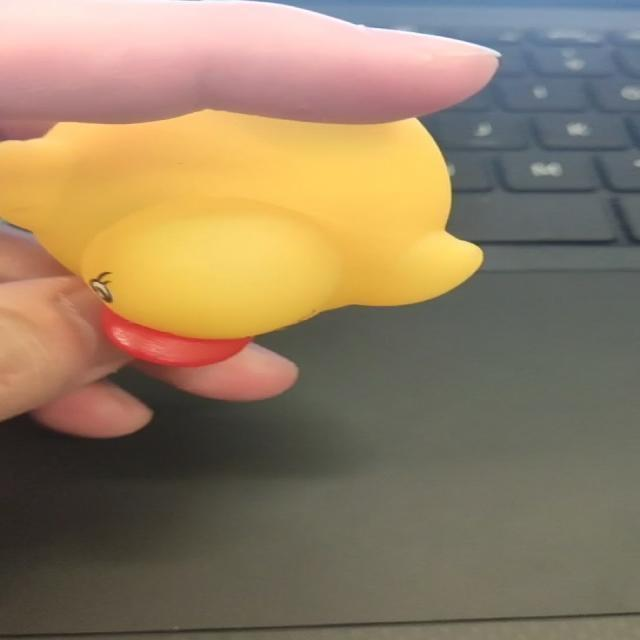rubber-duck: (0, 109, 481, 363)
